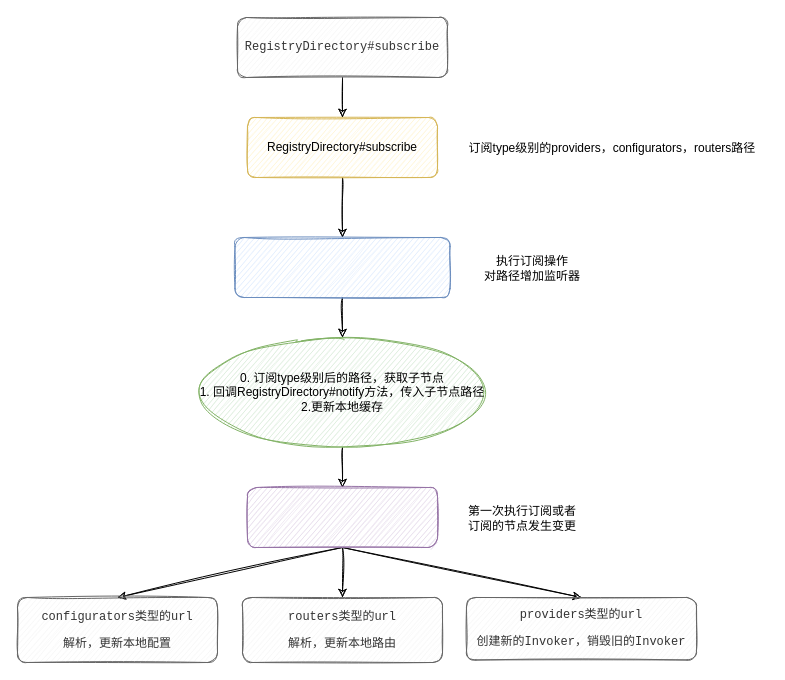
This 785x680 diagram has some shape labels left out. Here are the shapes that lost their labels. From the top down, the centre of each, then its label:
point 342,267: ZookeeperRegistry#doSubscribe
point 342,517: RegistryDirectory#notify
